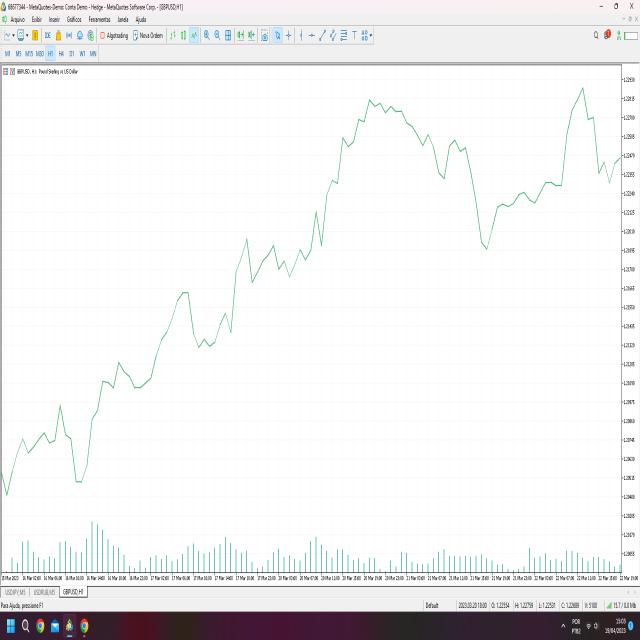fundo_duplo: (184, 312, 221, 359)
